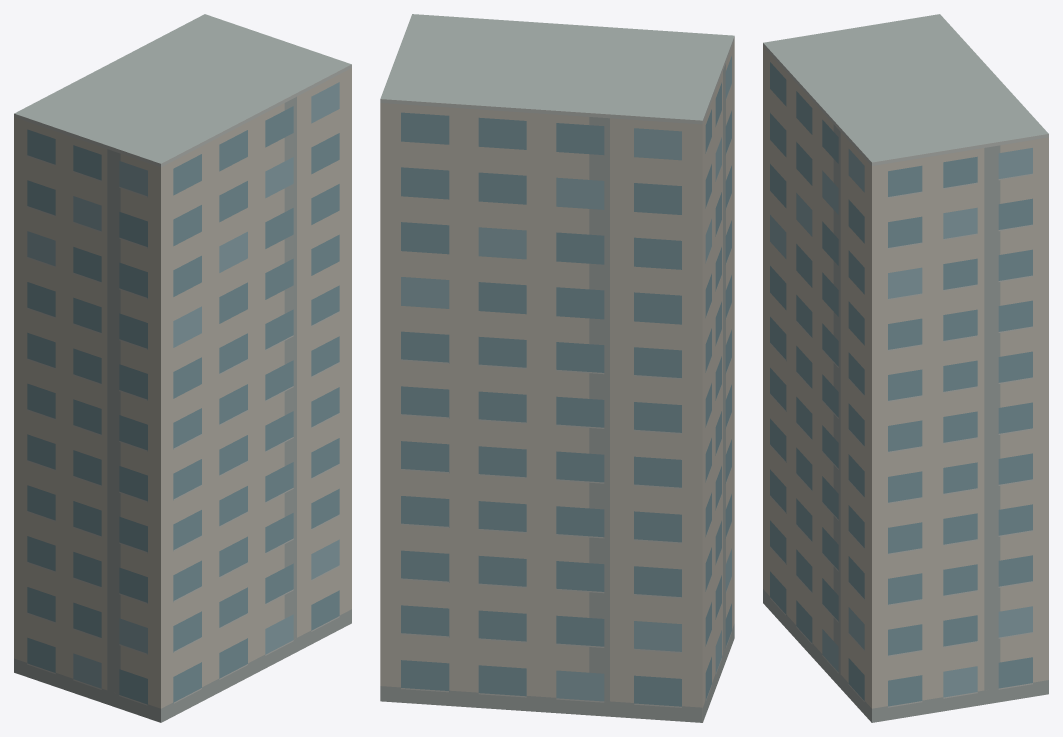
File: residential-05a043a7-5121-4ce4-8be8-fa11ec34b063.glb
The picture shows the model from 3 angles, left to right: view 1: azimuth 30°, elevation 25°; view 2: azimuth 150°, elevation 25°; view 3: azimuth 270°, elevation 25°; orthographic projection. The views are drawn at different scales.
Visible parts, largest first — view 1: residential-05a043a7-5121-4ce4-8be8-fa11ec34b063.tmp; view 2: residential-05a043a7-5121-4ce4-8be8-fa11ec34b063.tmp; view 3: residential-05a043a7-5121-4ce4-8be8-fa11ec34b063.tmp.
Part boxes in pixels (x1,y1,x2,y2): residential-05a043a7-5121-4ce4-8be8-fa11ec34b063.tmp: (14, 14, 351, 722); residential-05a043a7-5121-4ce4-8be8-fa11ec34b063.tmp: (380, 14, 734, 722); residential-05a043a7-5121-4ce4-8be8-fa11ec34b063.tmp: (763, 14, 1048, 722).
Bounding box in the file's own units: 21.62 × 38 × 17.58.
